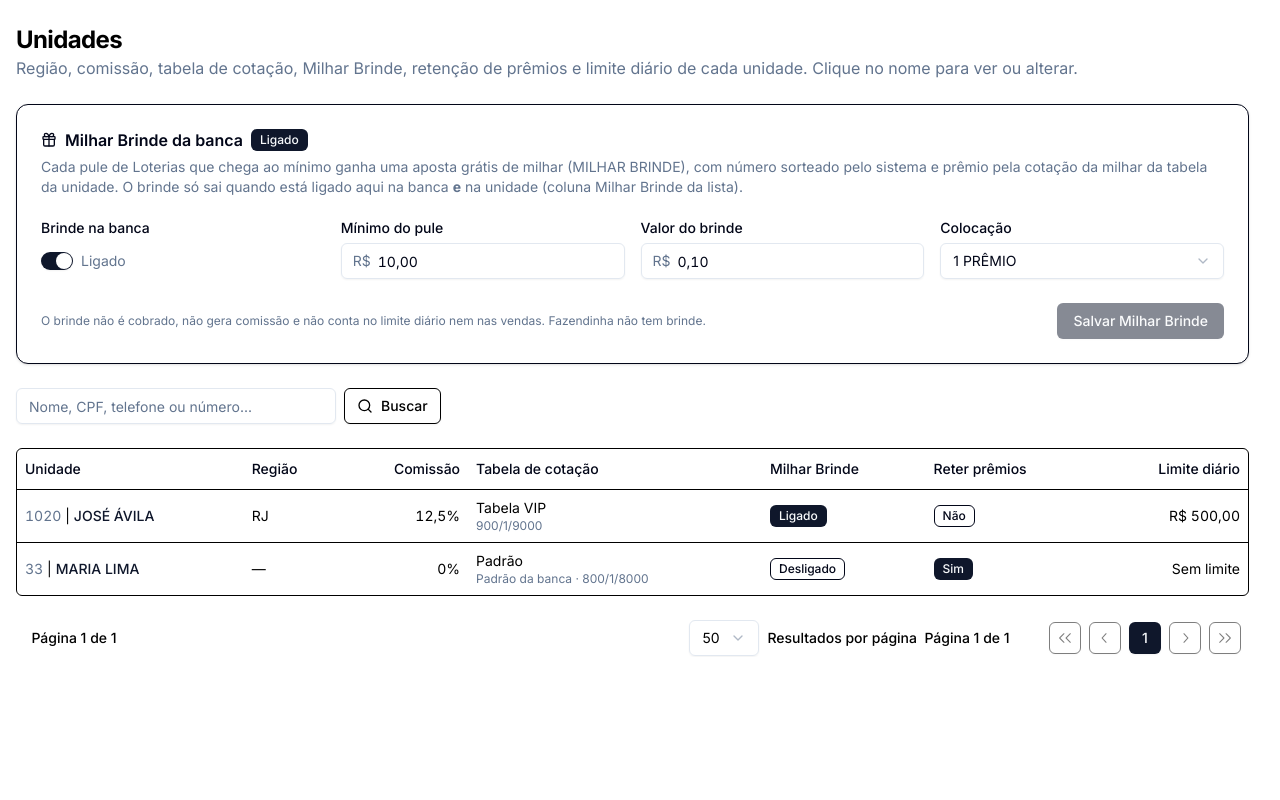
Test: Unidades: lista › busca navega para a primeira página; o nome abre a gaveta e muda a URL
Type " maria " into the search field labelled "Nome, CPF, telefone ou número" at (176, 406), box top-left (16, 388), bottom-right (336, 424)
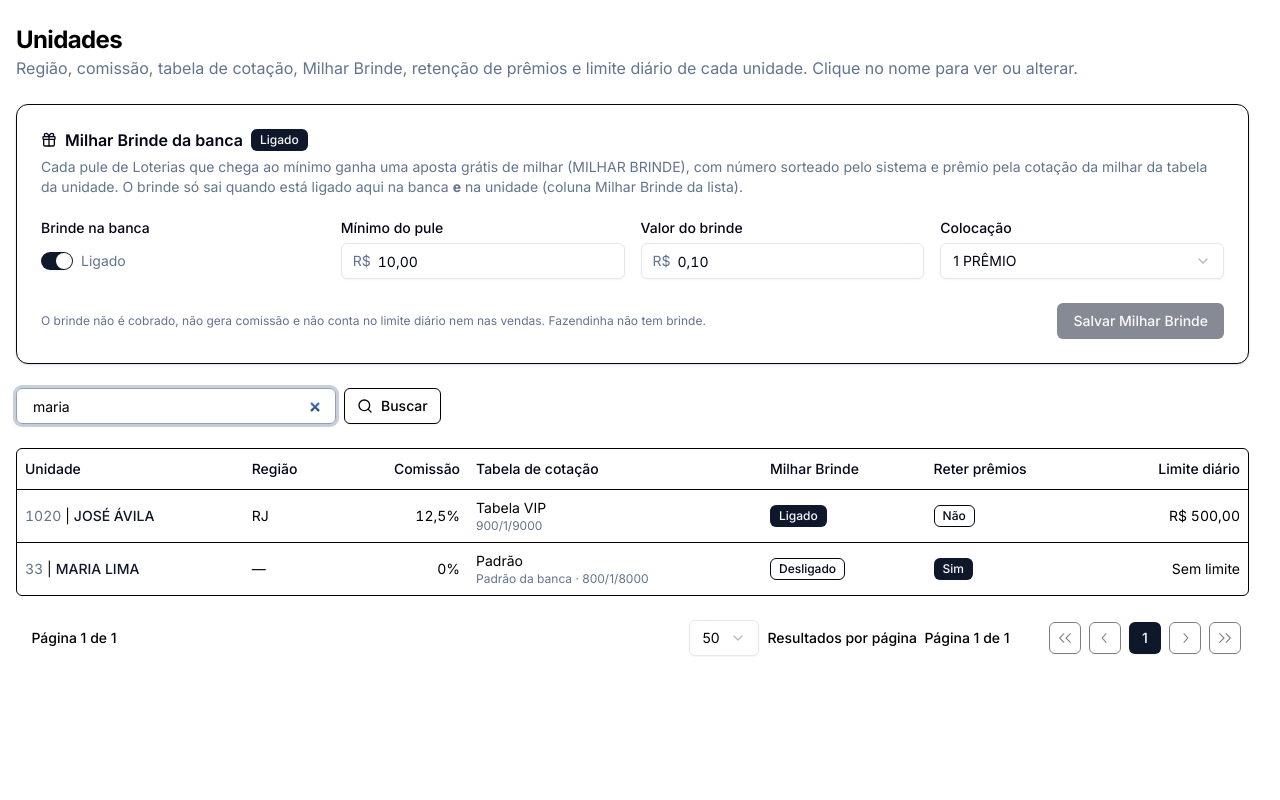
Click the button "Buscar" at (392, 406), box top-left (344, 388), bottom-right (441, 424)
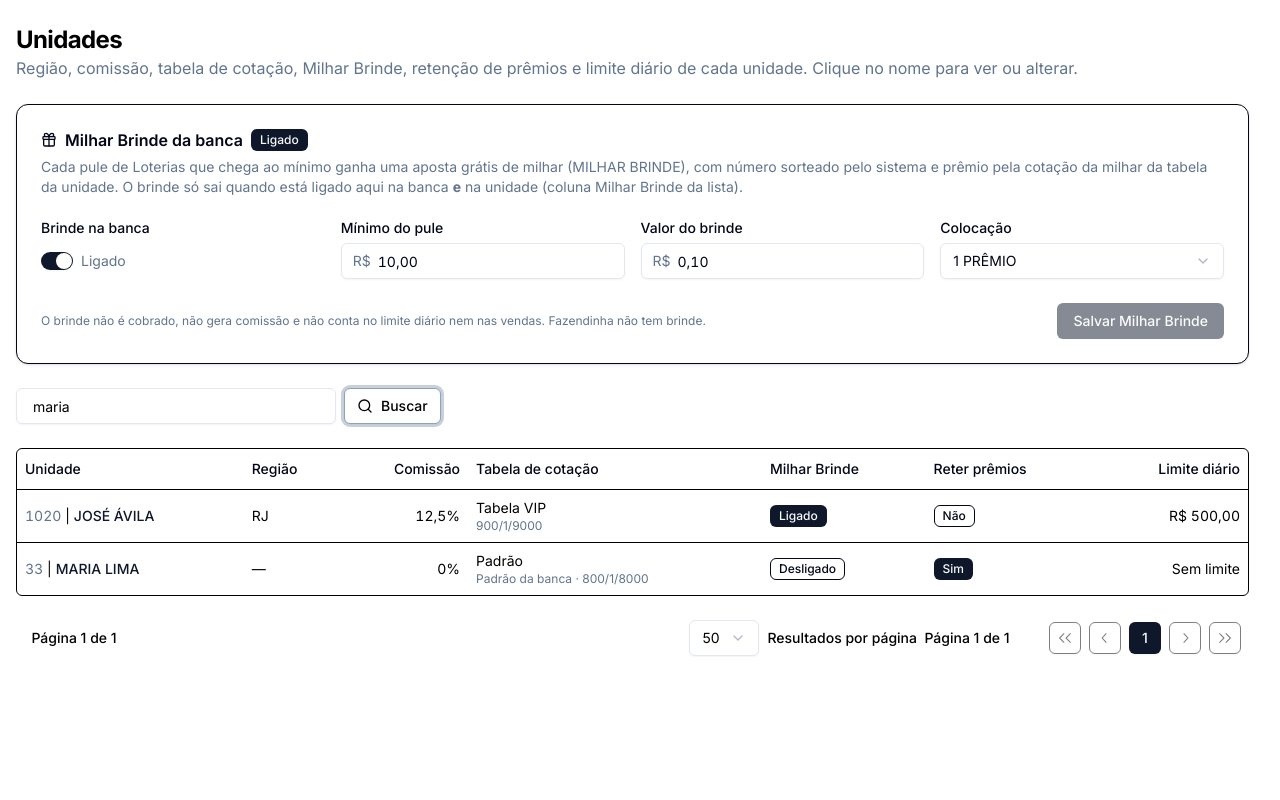
Click the link with aria-label "Configurar a unidade 1020 José Ávila" at (43, 515), box top-left (25, 506), bottom-right (154, 524)
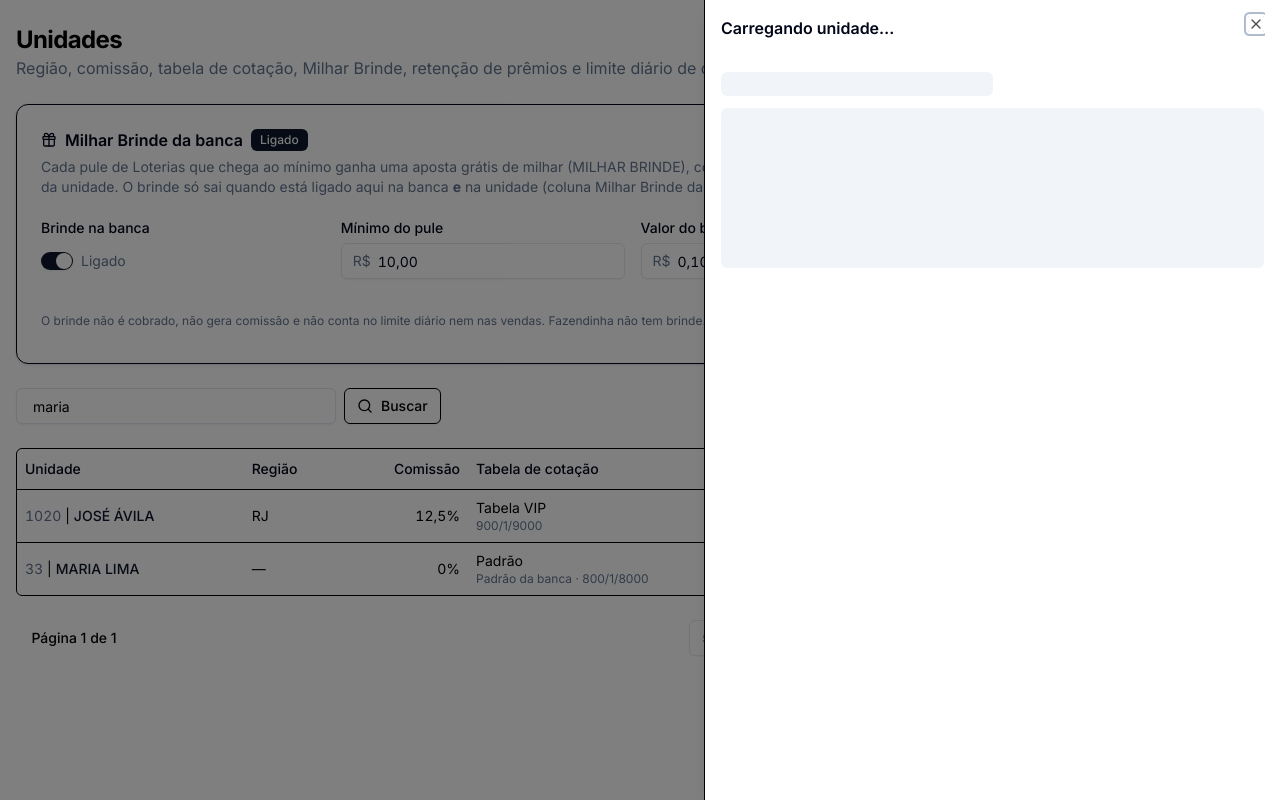
Check: the heading "Carregando unidade…" is shown, box top-left (721, 18), bottom-right (894, 38)
